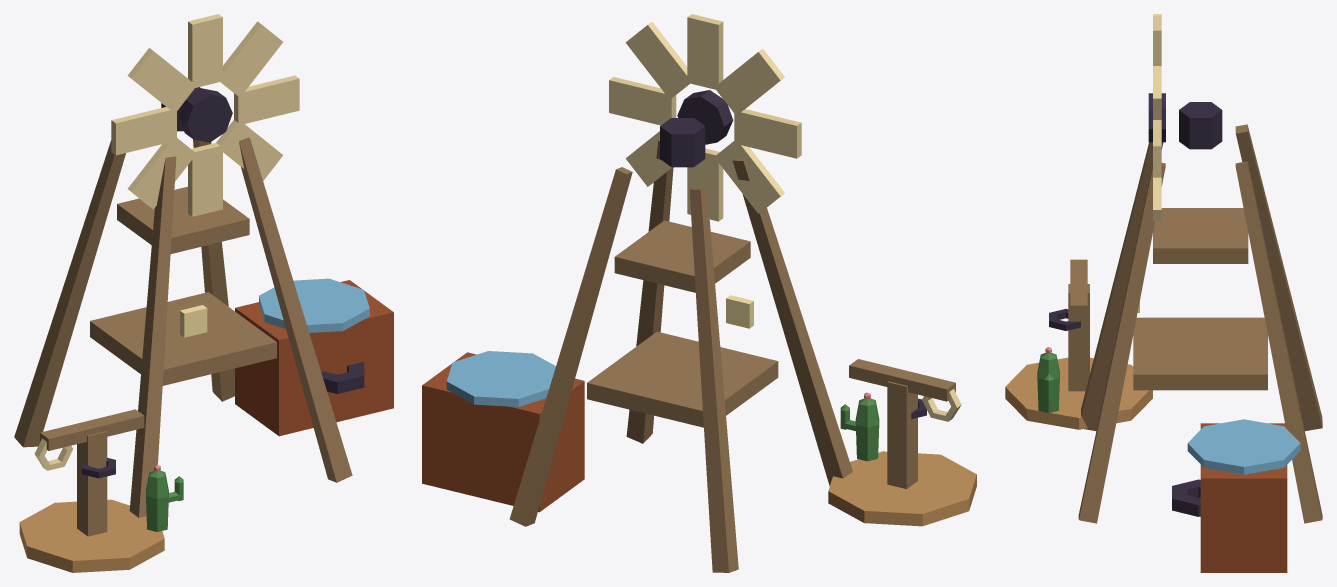
Rendered from wildwest-landmark-s2b.glb.
The picture shows the model from 3 angles, left to right: view 1: azimuth 30°, elevation 25°; view 2: azimuth 150°, elevation 25°; view 3: azimuth 270°, elevation 25°; orthographic projection. The views are drawn at different scales.
Parts seen in each view (by area): view 1: wildwest-landmark-s2b; view 2: wildwest-landmark-s2b; view 3: wildwest-landmark-s2b.
Part boxes in pixels (x1,y1,x2,y2): wildwest-landmark-s2b: [14, 14, 393, 572]; wildwest-landmark-s2b: [422, 14, 976, 572]; wildwest-landmark-s2b: [1005, 14, 1322, 572].
Bounding box in the file's own units: 1.12 × 1.15 × 0.7312.
